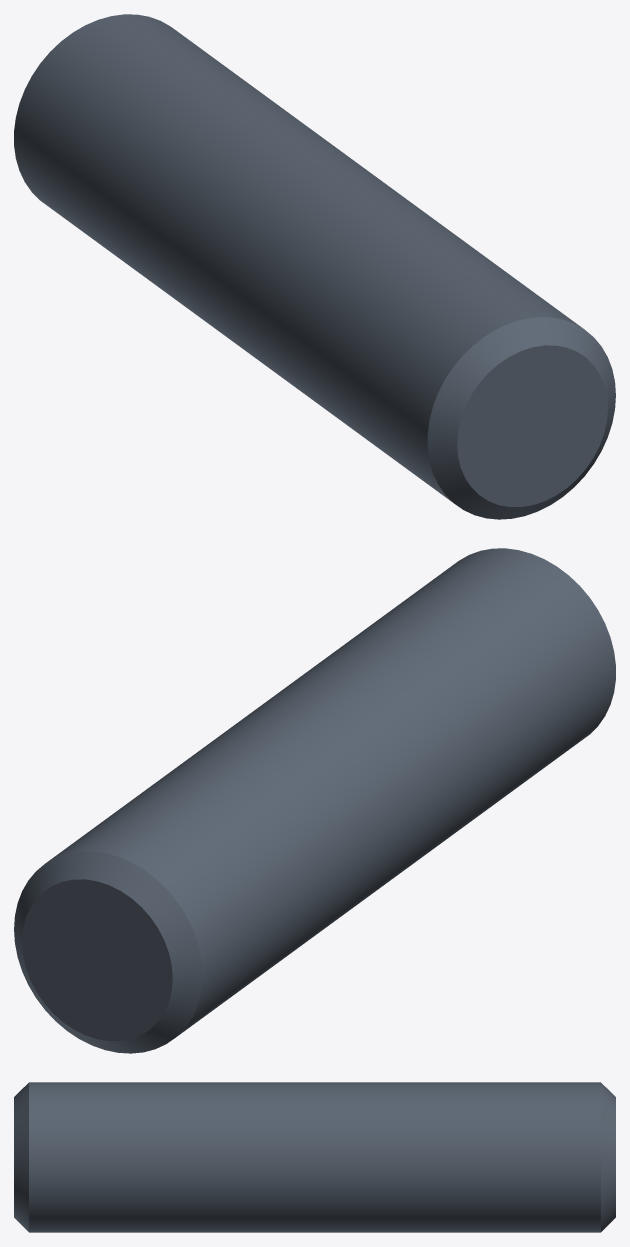
File: steel-dowel-pin-small.glb
The picture shows the model from 3 angles, top to bottom: view 1: azimuth 30°, elevation 25°; view 2: azimuth 150°, elevation 25°; view 3: azimuth 270°, elevation 25°; orthographic projection. The views are drawn at different scales.
Parts seen in each view (by area): view 1: Dowel_pin; view 2: Dowel_pin; view 3: Dowel_pin.
Boxes of the visible parts, left/top/right/bottom form: Dowel_pin: left=14, top=14, right=615, bottom=519; Dowel_pin: left=14, top=548, right=615, bottom=1053; Dowel_pin: left=14, top=1082, right=615, bottom=1232.
Bounding box in the file's own units: 0.004 × 0.004 × 0.016.
